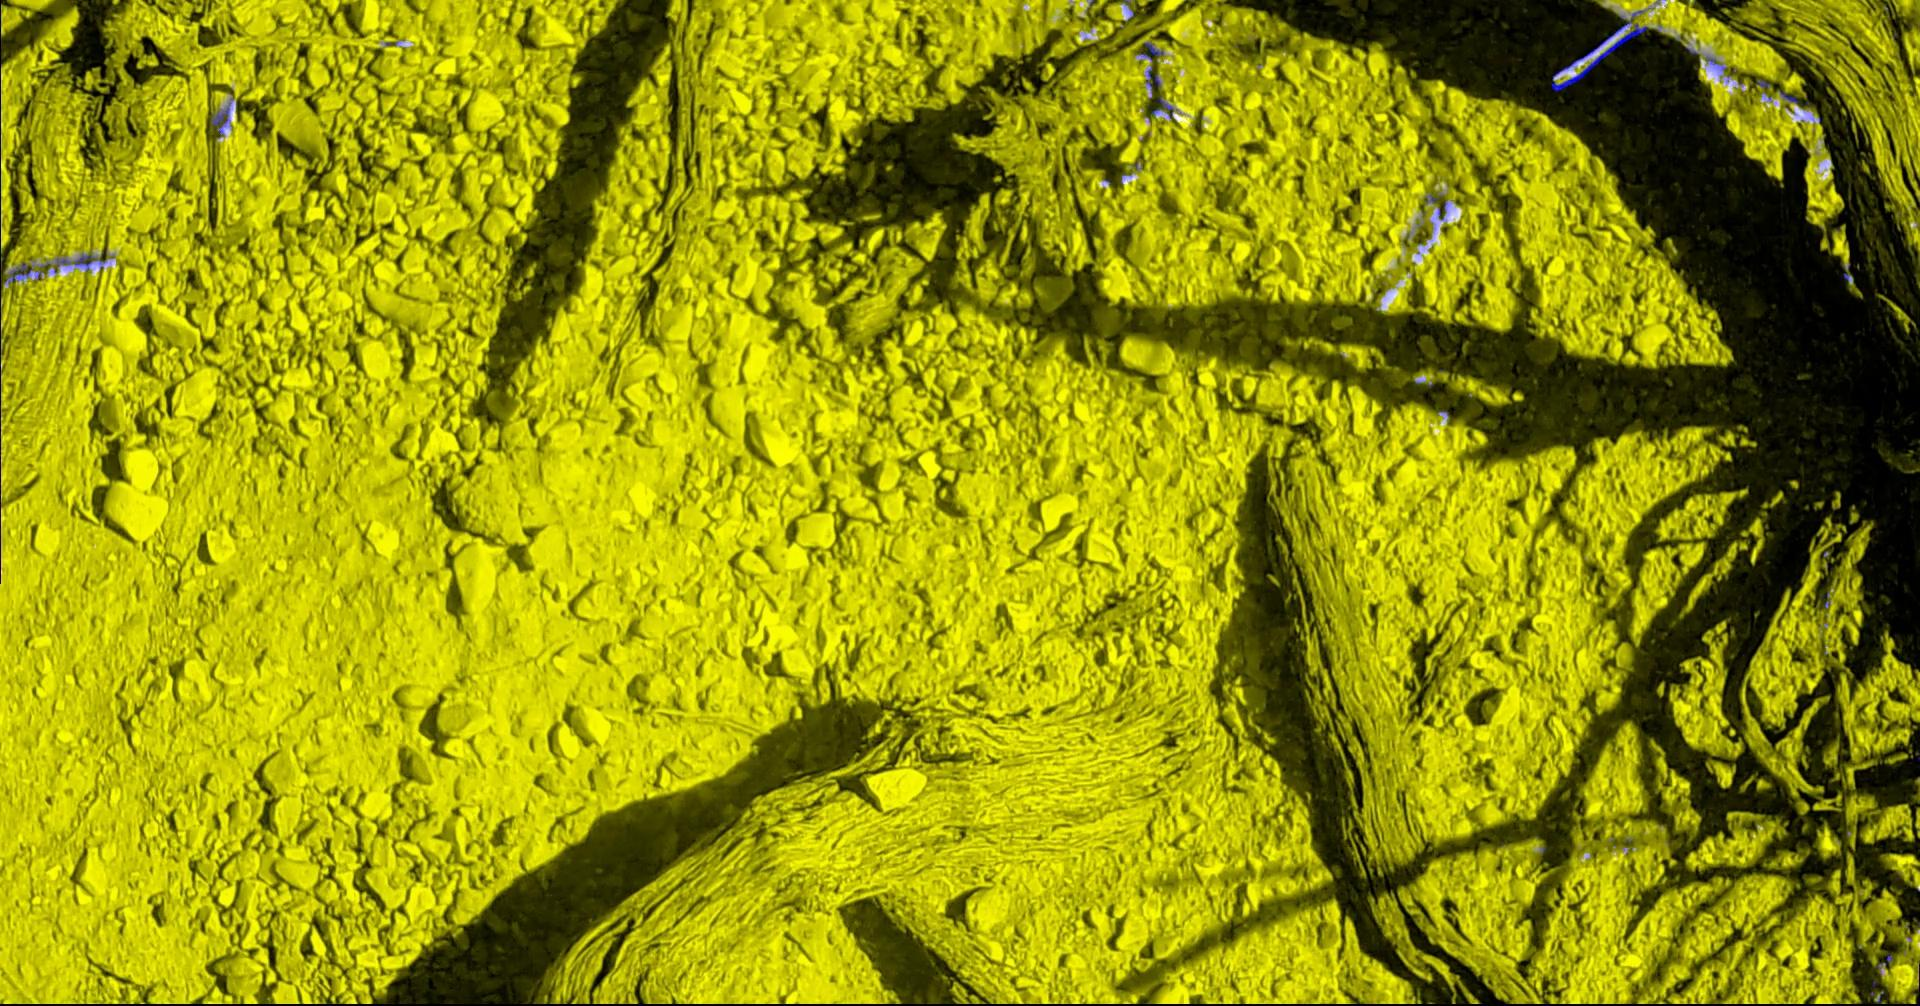ant: (1552, 10, 1650, 91), (212, 107, 231, 138), (75, 253, 107, 269), (1139, 41, 1164, 61), (6, 263, 33, 282), (1153, 97, 1175, 118), (1147, 69, 1162, 98)
